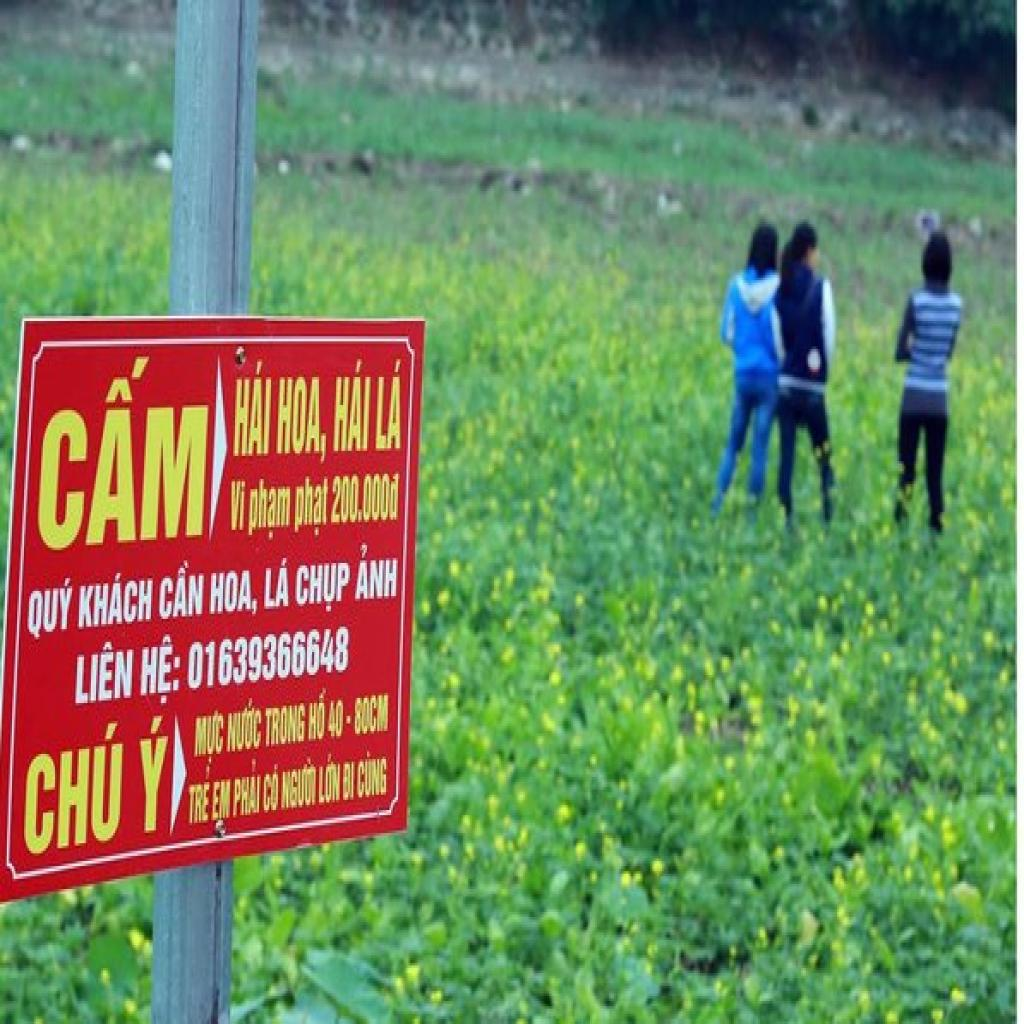text: (31, 344, 213, 555), (21, 721, 127, 866), (187, 624, 352, 695), (132, 713, 175, 843), (76, 568, 156, 634), (276, 372, 329, 471), (329, 349, 374, 458), (70, 637, 136, 711), (232, 357, 274, 461), (330, 469, 402, 527), (294, 553, 354, 619), (24, 573, 75, 645), (156, 555, 206, 624), (139, 632, 183, 710), (244, 474, 293, 542), (352, 540, 400, 606), (376, 354, 406, 453), (208, 566, 259, 622), (293, 469, 333, 540), (190, 708, 226, 769), (280, 754, 317, 813), (228, 696, 264, 756), (266, 698, 307, 749), (232, 754, 262, 820), (260, 553, 292, 614), (353, 690, 391, 739), (189, 764, 214, 828), (306, 685, 330, 744), (318, 749, 342, 807), (228, 474, 249, 537), (212, 777, 232, 823), (264, 764, 281, 818), (330, 696, 346, 742), (341, 756, 357, 802)
